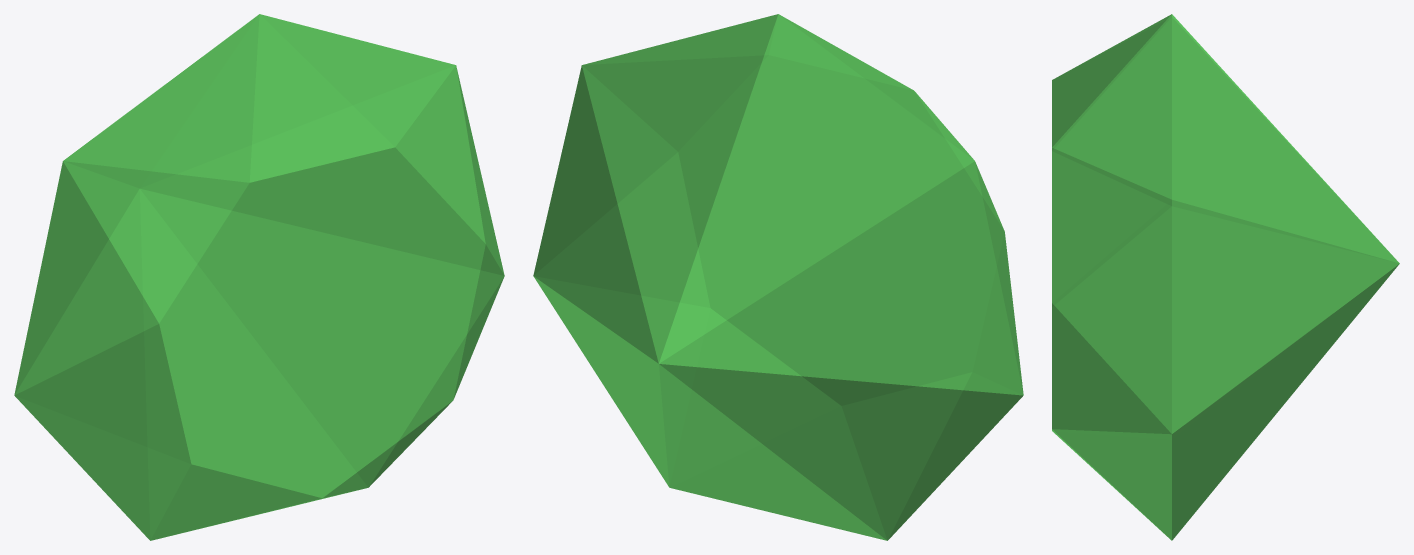
Rendered from HeptagonalAntiprism.obj.
3 views of the same model, side by side, from view 1: azimuth 30°, elevation 25°; view 2: azimuth 150°, elevation 25°; view 3: azimuth 270°, elevation 25° (orthographic). The views are drawn at different scales.
Bounding box in the file's own units: 2.25 × 2.19 × 1.45.
